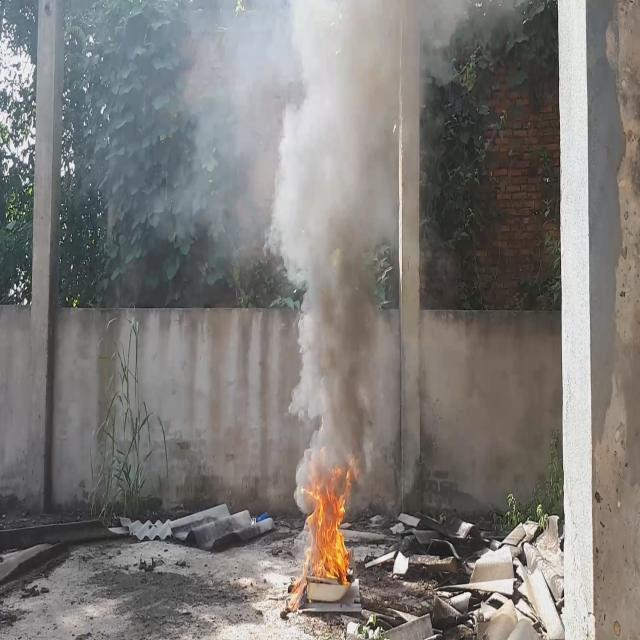Fire: (299, 447, 357, 592)
Smoke: (156, 0, 478, 507)
